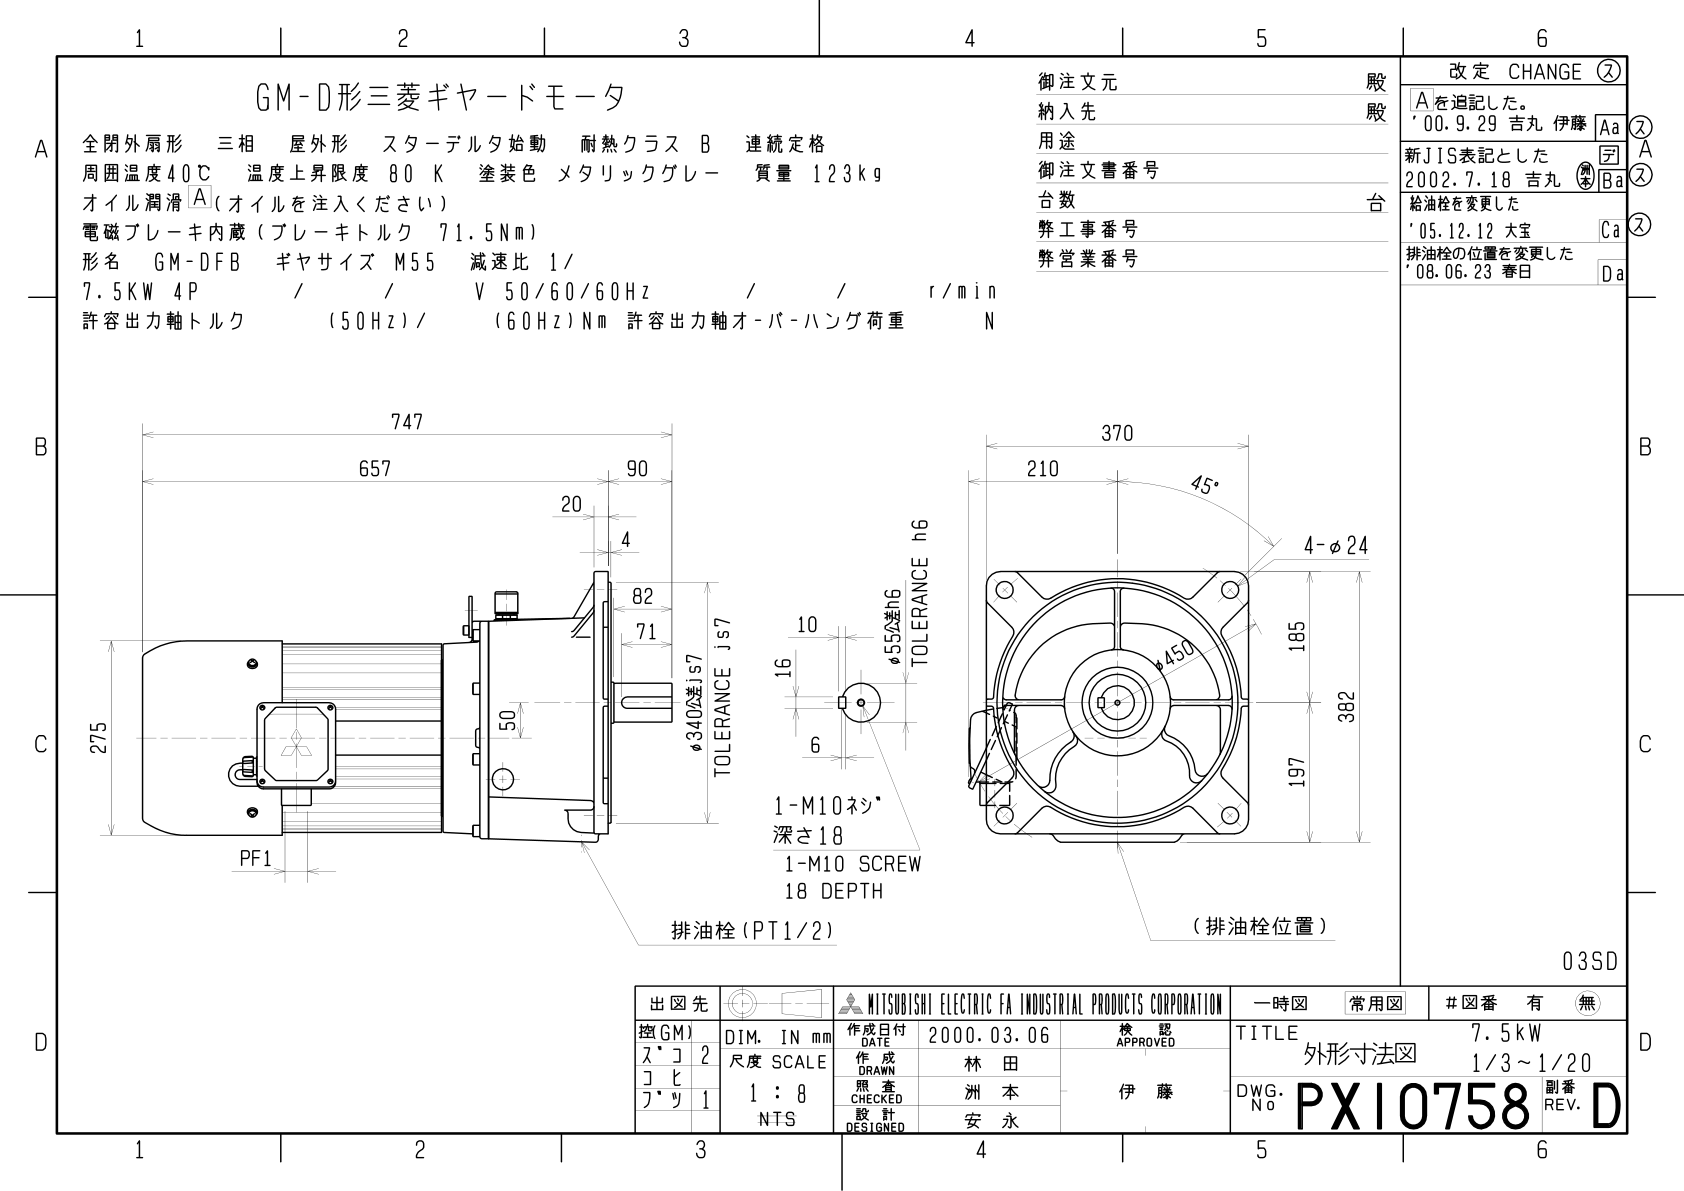GM_D_屋外＿三相_フランジ: (1, 1, 1672, 1183)
